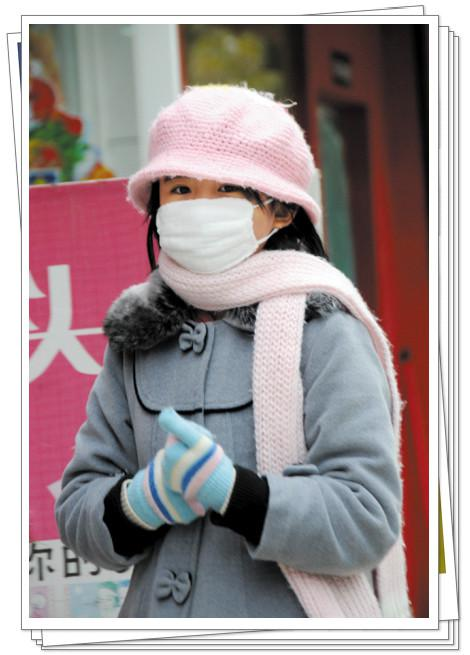OK: (159, 157, 273, 271)
